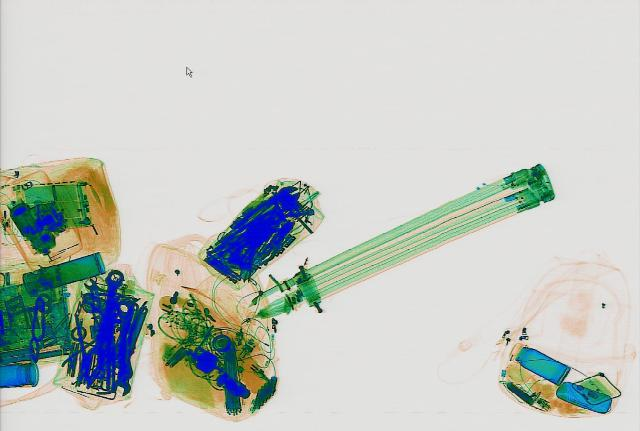Pliers: (63, 272, 137, 326)
Wrench: (108, 299, 134, 395)
